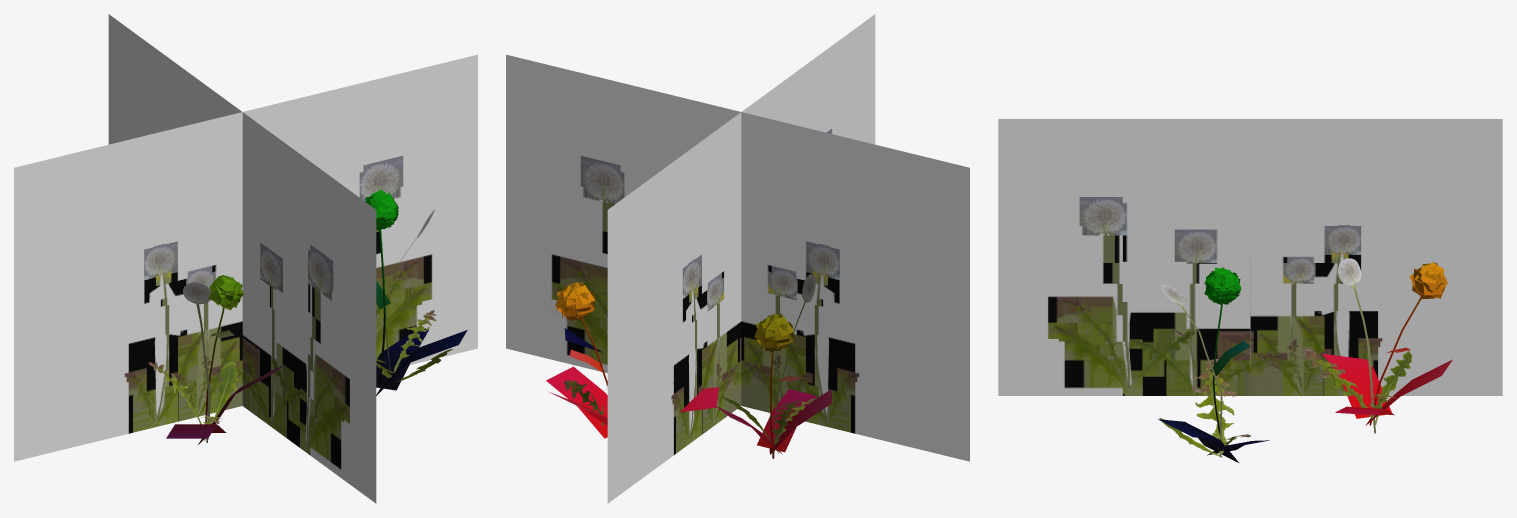
Rendered from MSH_Field_DandelionSeeds_B.FBX.
3 views of the same model, side by side, from view 1: azimuth 30°, elevation 25°; view 2: azimuth 150°, elevation 25°; view 3: azimuth 270°, elevation 25° (orthographic). The views are drawn at different scales.
Parts seen in each view (by area): view 1: Field_DandelionSeeds_B_LOD2_GEO, Field_DandelionSeeds_B_LOD0_GEO, Field_DandelionSeeds_B_LOD1_GEO; view 2: Field_DandelionSeeds_B_LOD2_GEO, Field_DandelionSeeds_B_LOD0_GEO, Field_DandelionSeeds_B_LOD1_GEO; view 3: Field_DandelionSeeds_B_LOD2_GEO, Field_DandelionSeeds_B_LOD0_GEO, Field_DandelionSeeds_B_LOD1_GEO.
Boxes of the visible parts, x1,y1,x2,y2 form: Field_DandelionSeeds_B_LOD2_GEO: (14, 14, 477, 503); Field_DandelionSeeds_B_LOD0_GEO: (166, 190, 467, 445); Field_DandelionSeeds_B_LOD1_GEO: (148, 209, 452, 442); Field_DandelionSeeds_B_LOD2_GEO: (506, 14, 969, 503); Field_DandelionSeeds_B_LOD0_GEO: (546, 282, 832, 458); Field_DandelionSeeds_B_LOD1_GEO: (551, 274, 816, 456); Field_DandelionSeeds_B_LOD2_GEO: (998, 119, 1502, 395); Field_DandelionSeeds_B_LOD0_GEO: (1158, 262, 1452, 462); Field_DandelionSeeds_B_LOD1_GEO: (1159, 258, 1411, 457).
Size of the model in its own units: 125 by 78.07 by 125.
